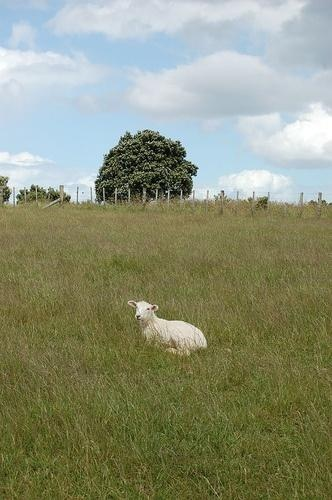sheep: (127, 302, 208, 357)
